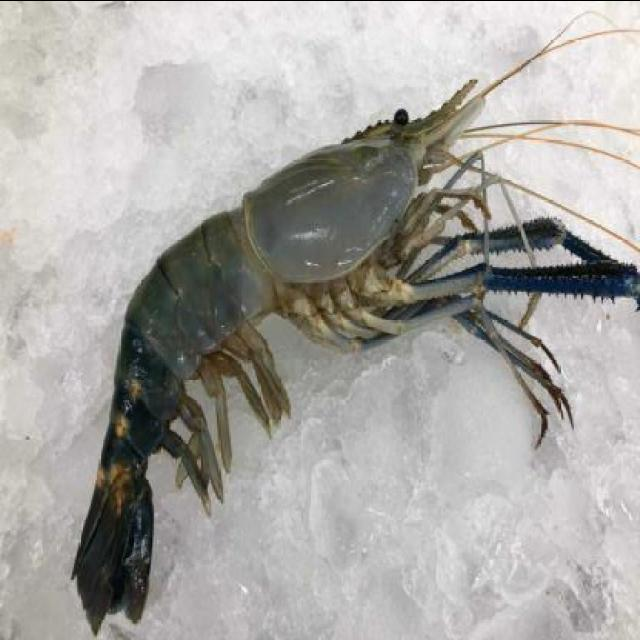shrimp: (56, 61, 510, 638)
